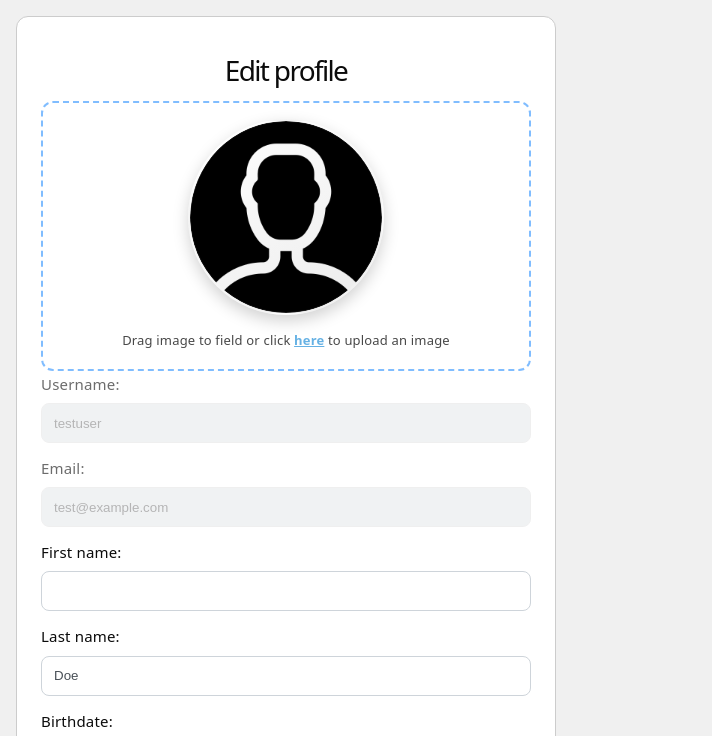
Test: shows validation error for invalid first name
'Jo' is 2 chars — fails isTextNameValid which requires 3-45 chars
Type "Jo" into the field with test id "input-first-name" at (286, 592), box [41,572,531,612]
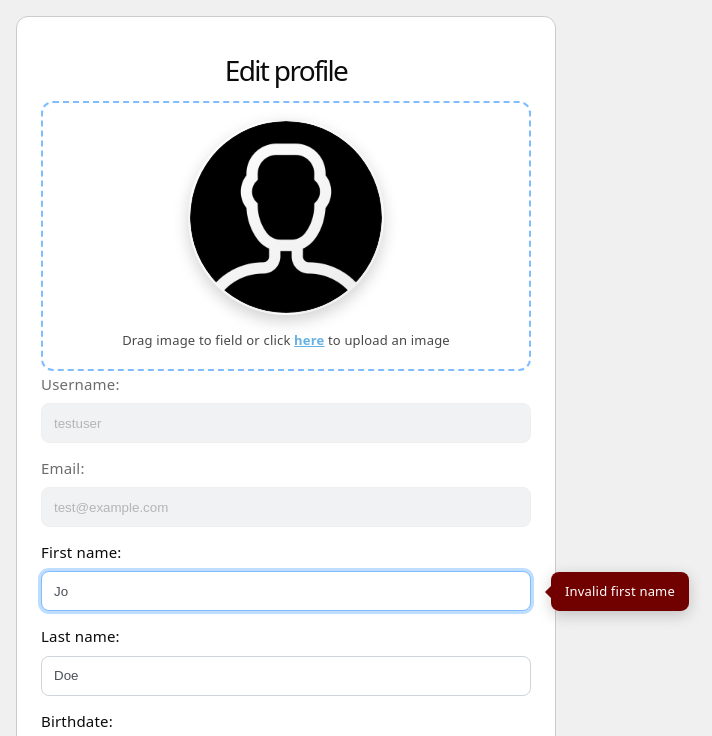
Expected: the message "Invalid first name" is shown, [551,572,689,611]
